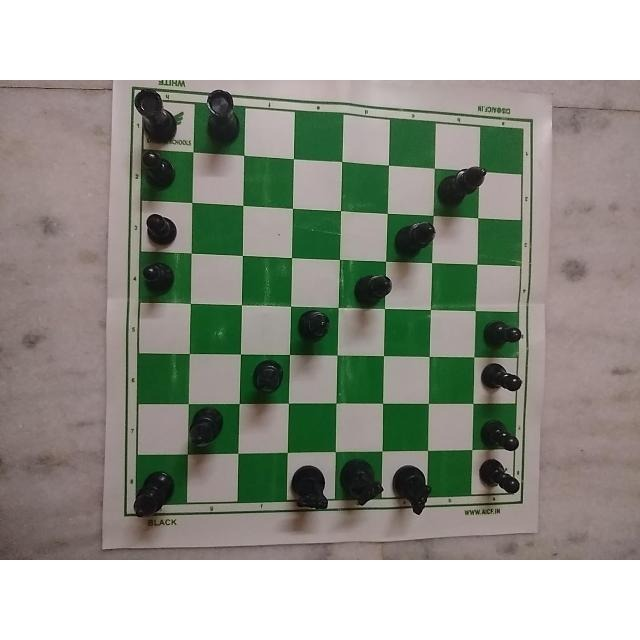black-bishop: (434, 162, 491, 210), (130, 467, 174, 522), (340, 265, 393, 309), (392, 218, 440, 261), (248, 358, 287, 398), (296, 306, 333, 345), (191, 407, 223, 450)
black-knight: (287, 457, 335, 513), (391, 464, 435, 515), (342, 460, 384, 507)
black-pawn: (131, 150, 187, 197), (476, 408, 528, 449), (479, 356, 531, 395), (141, 201, 181, 251), (479, 457, 523, 501), (137, 256, 181, 300), (480, 323, 528, 355)
black-rook: (135, 81, 183, 143), (196, 85, 235, 146)
